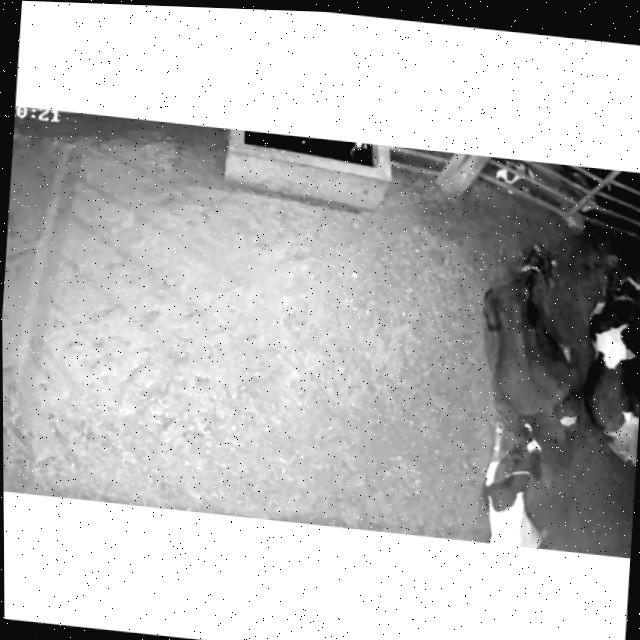lay: (452, 221, 601, 446), (423, 403, 582, 552), (569, 213, 640, 472)
